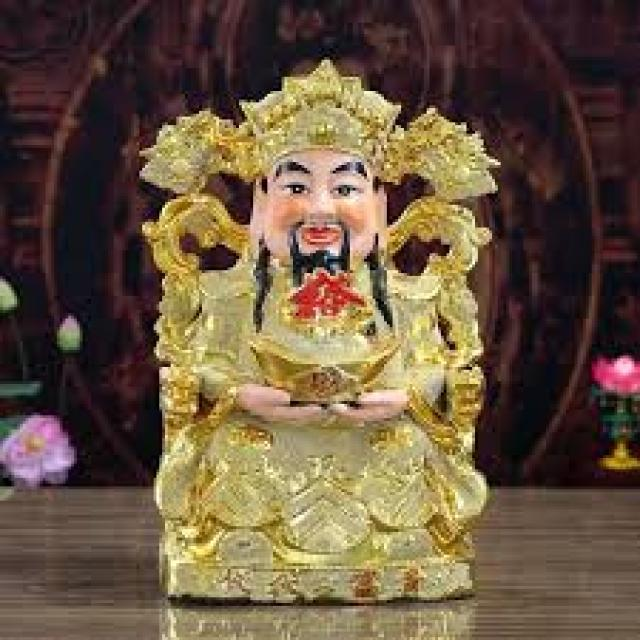Cai shen: (136, 61, 488, 588)
